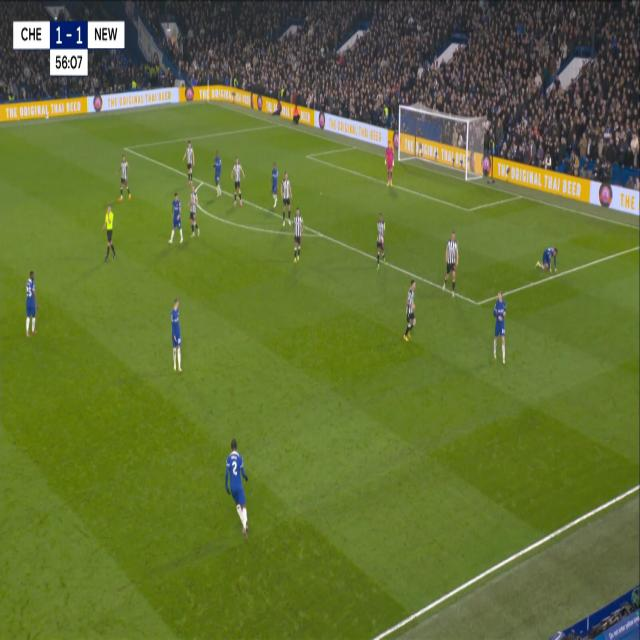Chelsea: (222, 433, 252, 545), (168, 294, 187, 372), (491, 288, 507, 367), (23, 266, 39, 340), (534, 242, 560, 277), (170, 190, 184, 248), (268, 160, 280, 213), (212, 149, 224, 201)
New castle: (400, 276, 419, 346), (441, 231, 462, 294), (374, 212, 388, 274), (118, 154, 133, 208), (280, 170, 293, 231), (231, 154, 246, 206), (291, 206, 305, 260), (188, 185, 200, 241), (183, 140, 196, 184)
New castle keeper: (383, 138, 396, 191)
Refree: (100, 200, 118, 265)
